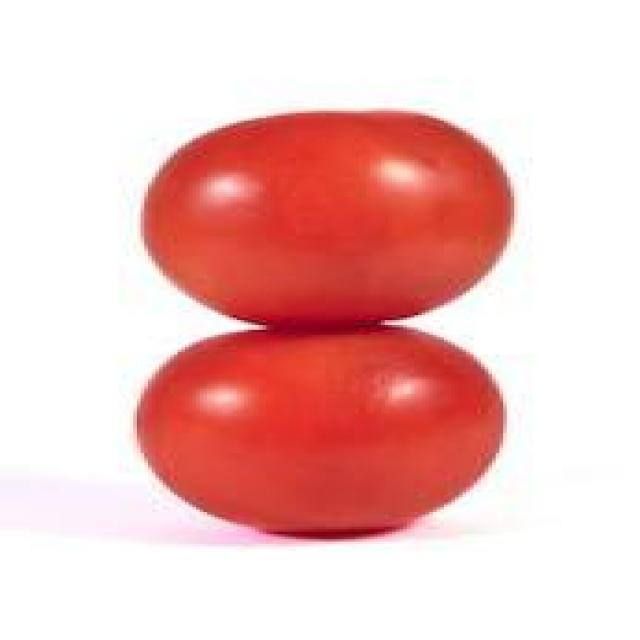Fresh_tomato: (80, 324, 512, 542), (122, 98, 531, 320)
